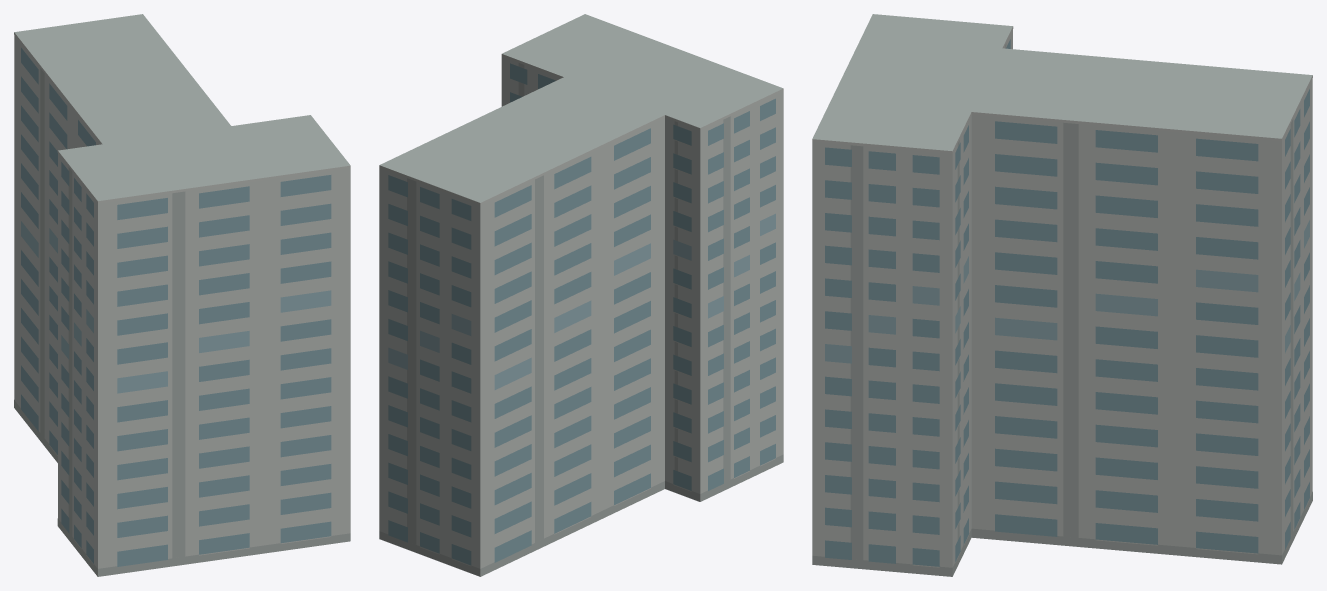
File: residential-7473eb60-f0dd-43fb-acec-41f259e1ff49.glb
The picture shows the model from 3 angles, left to right: view 1: azimuth 30°, elevation 25°; view 2: azimuth 150°, elevation 25°; view 3: azimuth 270°, elevation 25°; orthographic projection. The views are drawn at different scales.
Parts seen in each view (by area): view 1: residential-7473eb60-f0dd-43fb-acec-41f259e1ff49.tmp; view 2: residential-7473eb60-f0dd-43fb-acec-41f259e1ff49.tmp; view 3: residential-7473eb60-f0dd-43fb-acec-41f259e1ff49.tmp.
Part boxes in pixels (bbox=[...]): residential-7473eb60-f0dd-43fb-acec-41f259e1ff49.tmp: bbox=[14, 14, 350, 576]; residential-7473eb60-f0dd-43fb-acec-41f259e1ff49.tmp: bbox=[379, 14, 783, 576]; residential-7473eb60-f0dd-43fb-acec-41f259e1ff49.tmp: bbox=[812, 14, 1312, 576].
Bounding box in the file's own units: 24.89 × 36 × 38.37.
